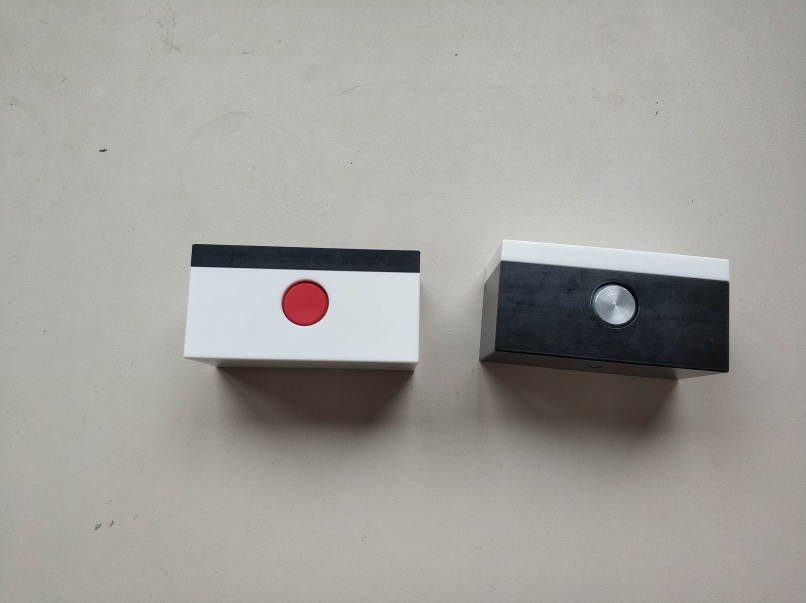black+white+red: (180, 243, 422, 368)
white+black+silver: (479, 236, 730, 374)
